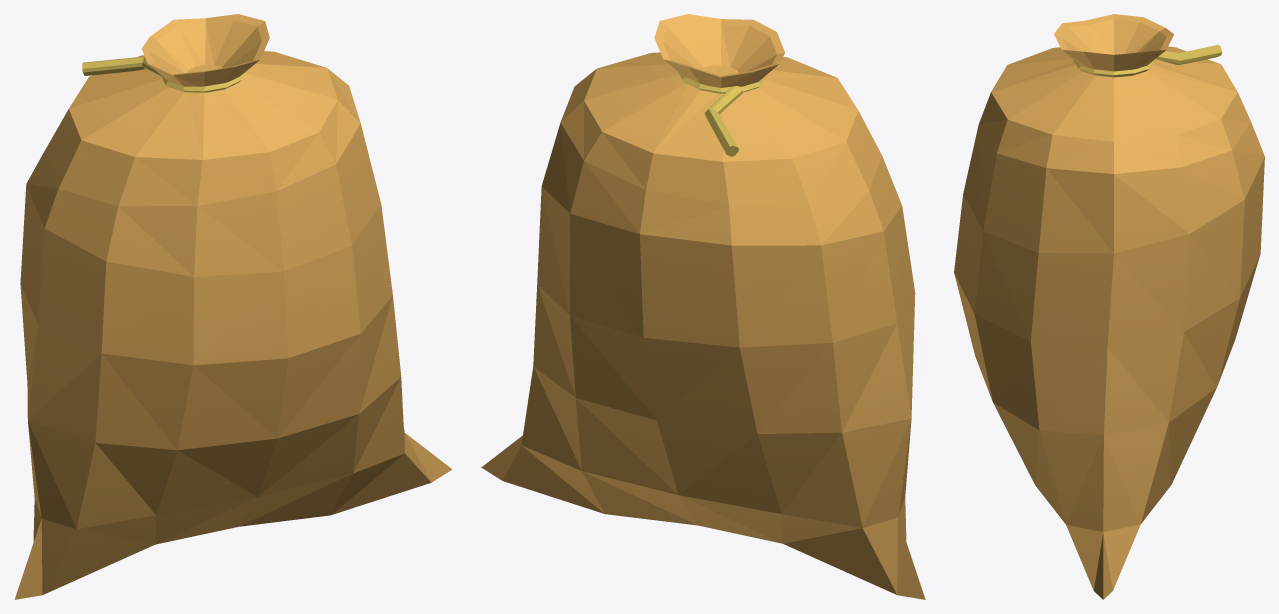
Rendered from Prop_Sack_02.obj.
3 views of the same model, side by side, from view 1: azimuth 30°, elevation 25°; view 2: azimuth 150°, elevation 25°; view 3: azimuth 270°, elevation 25° (orthographic). The views are drawn at different scales.
Visible parts, largest first — view 1: Prop_Sack_02; view 2: Prop_Sack_02; view 3: Prop_Sack_02.
Boxes of the visible parts, x1,y1,x2,y2 form: Prop_Sack_02: (14,14,451,599); Prop_Sack_02: (481,14,925,599); Prop_Sack_02: (954,14,1264,599).
Bounding box in the file's own units: 0.5115 × 0.5717 × 0.3331.
Materials: 1 (1 with a texture image).
